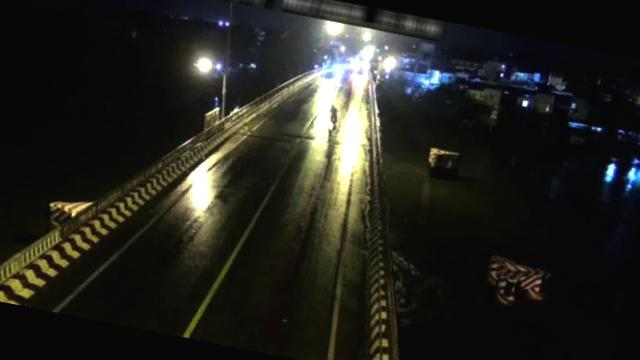Bike: (325, 100, 342, 132)
